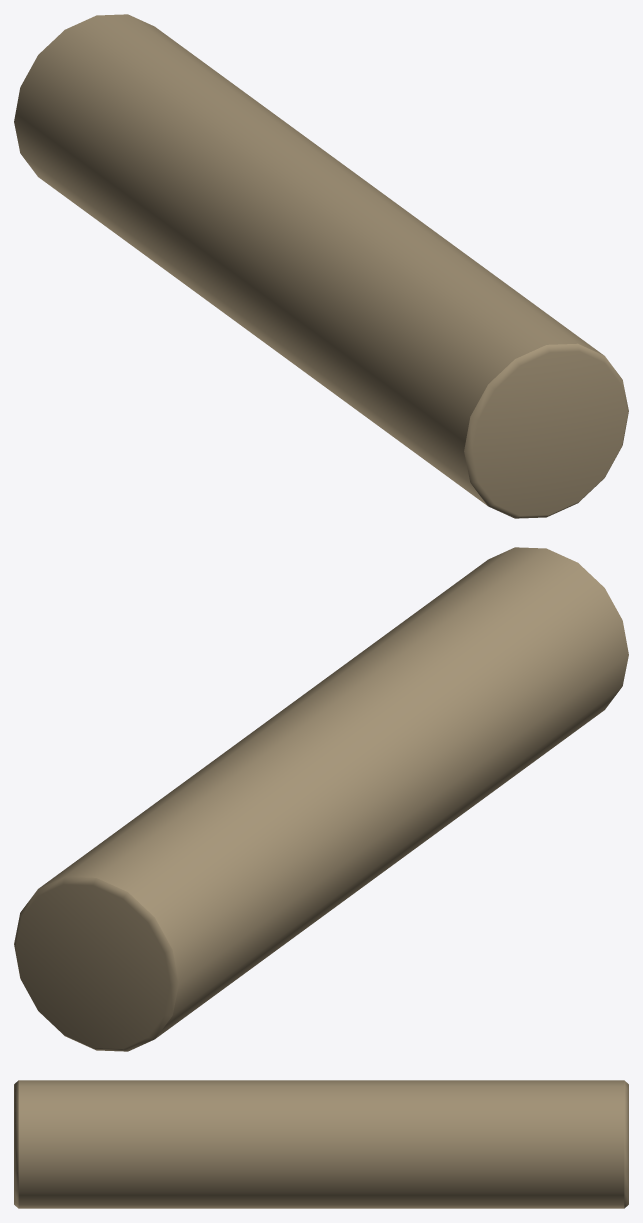
The model's file is Wall_Detail_05.fbx.
3 renders of one model, top to bottom at view 1: azimuth 30°, elevation 25°; view 2: azimuth 150°, elevation 25°; view 3: azimuth 270°, elevation 25°, orthographic. The views are drawn at different scales.
Parts seen in each view (by area): view 1: Wall_Detail_05; view 2: Wall_Detail_05; view 3: Wall_Detail_05.
Part boxes in pixels (x1,y1,x2,y2): Wall_Detail_05: (14, 14, 628, 518); Wall_Detail_05: (14, 547, 628, 1051); Wall_Detail_05: (14, 1080, 628, 1208).
Bounding box in the file's own units: 0.4 × 0.4 × 1.92.
